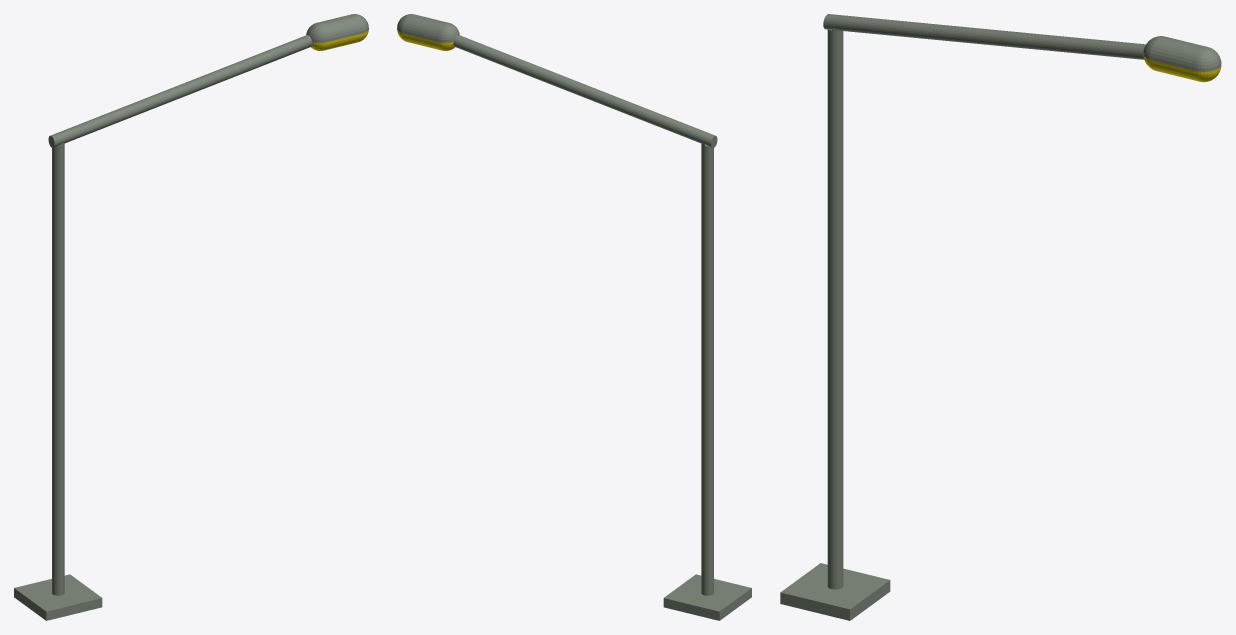
File: StreetLight.fbx
3 views of the same model, side by side, from view 1: azimuth 30°, elevation 25°; view 2: azimuth 150°, elevation 25°; view 3: azimuth 330°, elevation 25° (orthographic). The views are drawn at different scales.
Parts seen in each view (by area): view 1: Cube; view 2: Cube; view 3: Cube.
Boxes of the visible parts, left/top/right/bottom form: Cube: left=14, top=14, right=368, bottom=620; Cube: left=397, top=14, right=751, bottom=620; Cube: left=780, top=14, right=1221, bottom=620.
Size of the model in its own units: 200 by 1202 by 1755.
